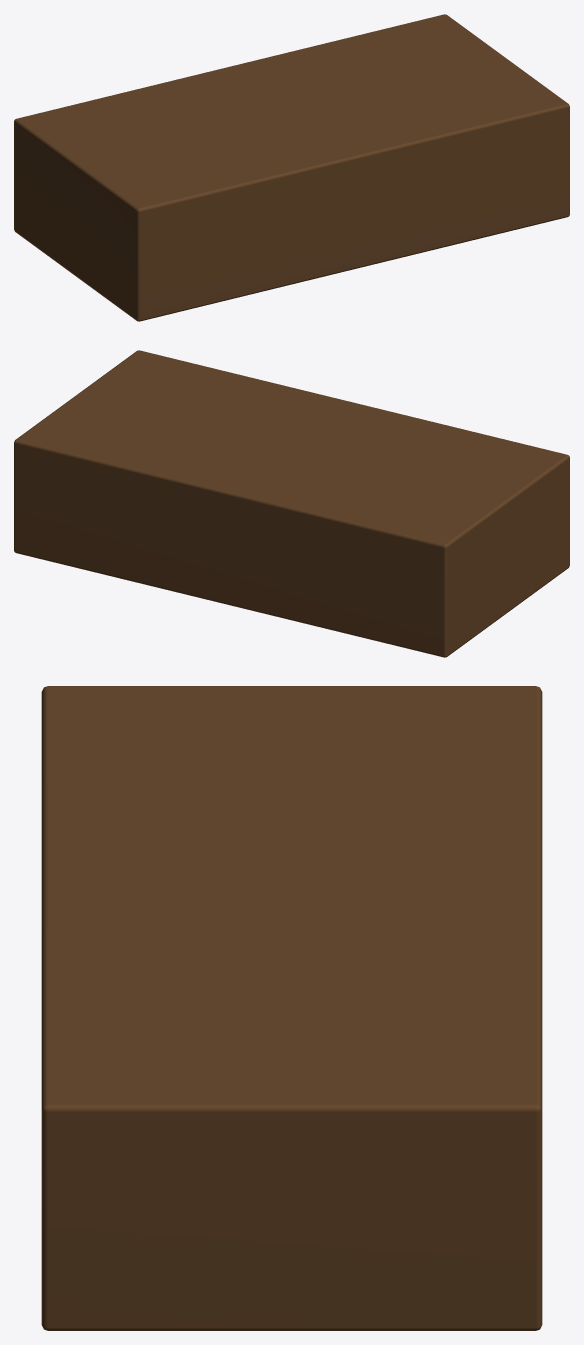
Rendered from baseboard2.FBX.
3 views of the same model, one above another, from view 1: azimuth 30°, elevation 25°; view 2: azimuth 150°, elevation 25°; view 3: azimuth 270°, elevation 25° (orthographic). The views are drawn at different scales.
Parts seen in each view (by area): view 1: baseboard2; view 2: baseboard2; view 3: baseboard2.
Part boxes in pixels (x1=…): baseboard2: x1=14, y1=14, x2=569, y2=321; baseboard2: x1=14, y1=350, x2=569, y2=657; baseboard2: x1=41, y1=686, x2=542, y2=1330.
Bounding box in the file's own units: 40 × 10 × 20.
